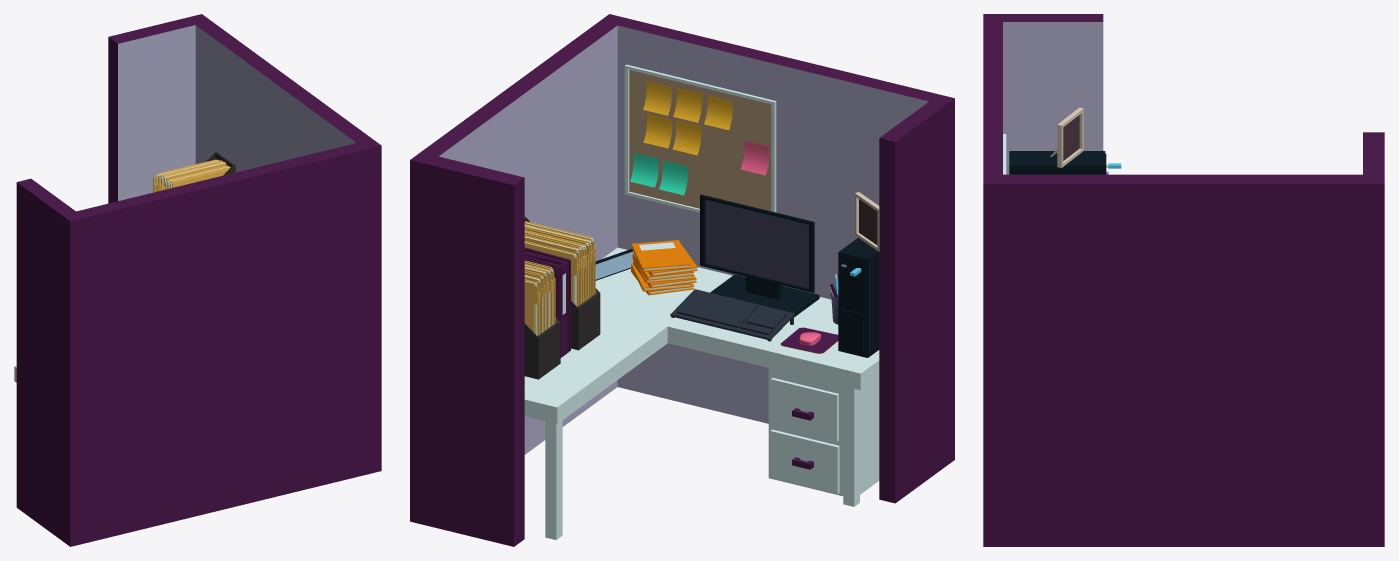
File: Cubicle04.fbx
3 views of the same model, side by side, from view 1: azimuth 30°, elevation 25°; view 2: azimuth 150°, elevation 25°; view 3: azimuth 270°, elevation 25° (orthographic). The views are drawn at different scales.
Parts seen in each view (by area): view 1: Cubicle; view 2: Cubicle, CubicleDesk, CorkBoard.003, Desktop, Desktop Hardrive.003, Keyboard, FolderHolder.004, Notebook.050, FolderHolder.003, PhotoFrame.003, Binder.016, MousePad.003 (+11 smaller); view 3: Cubicle, Desktop Hardrive.003, PhotoFrame.003.
Part boxes in pixels (x1,y1,x2,y2): Cubicle: (16, 14, 381, 546); Cubicle: (410, 14, 954, 546); CubicleDesk: (524, 247, 879, 539); CorkBoard.003: (624, 64, 776, 212); Desktop: (700, 194, 819, 317); Desktop Hardrive.003: (838, 237, 879, 357); Keyboard: (670, 289, 794, 341); FolderHolder.004: (524, 317, 560, 379); Notebook.050: (631, 240, 689, 271); FolderHolder.003: (524, 216, 600, 350); PhotoFrame.003: (854, 192, 879, 251); Binder.016: (524, 253, 567, 357); MousePad.003: (780, 327, 838, 353); Cubicle: (983, 14, 1384, 546); Desktop Hardrive.003: (1009, 151, 1121, 174); PhotoFrame.003: (1050, 107, 1083, 167).
Bounding box in the file's own units: 99967 × 99967 × 99967.
Materials: 61 (61 with a texture image).
